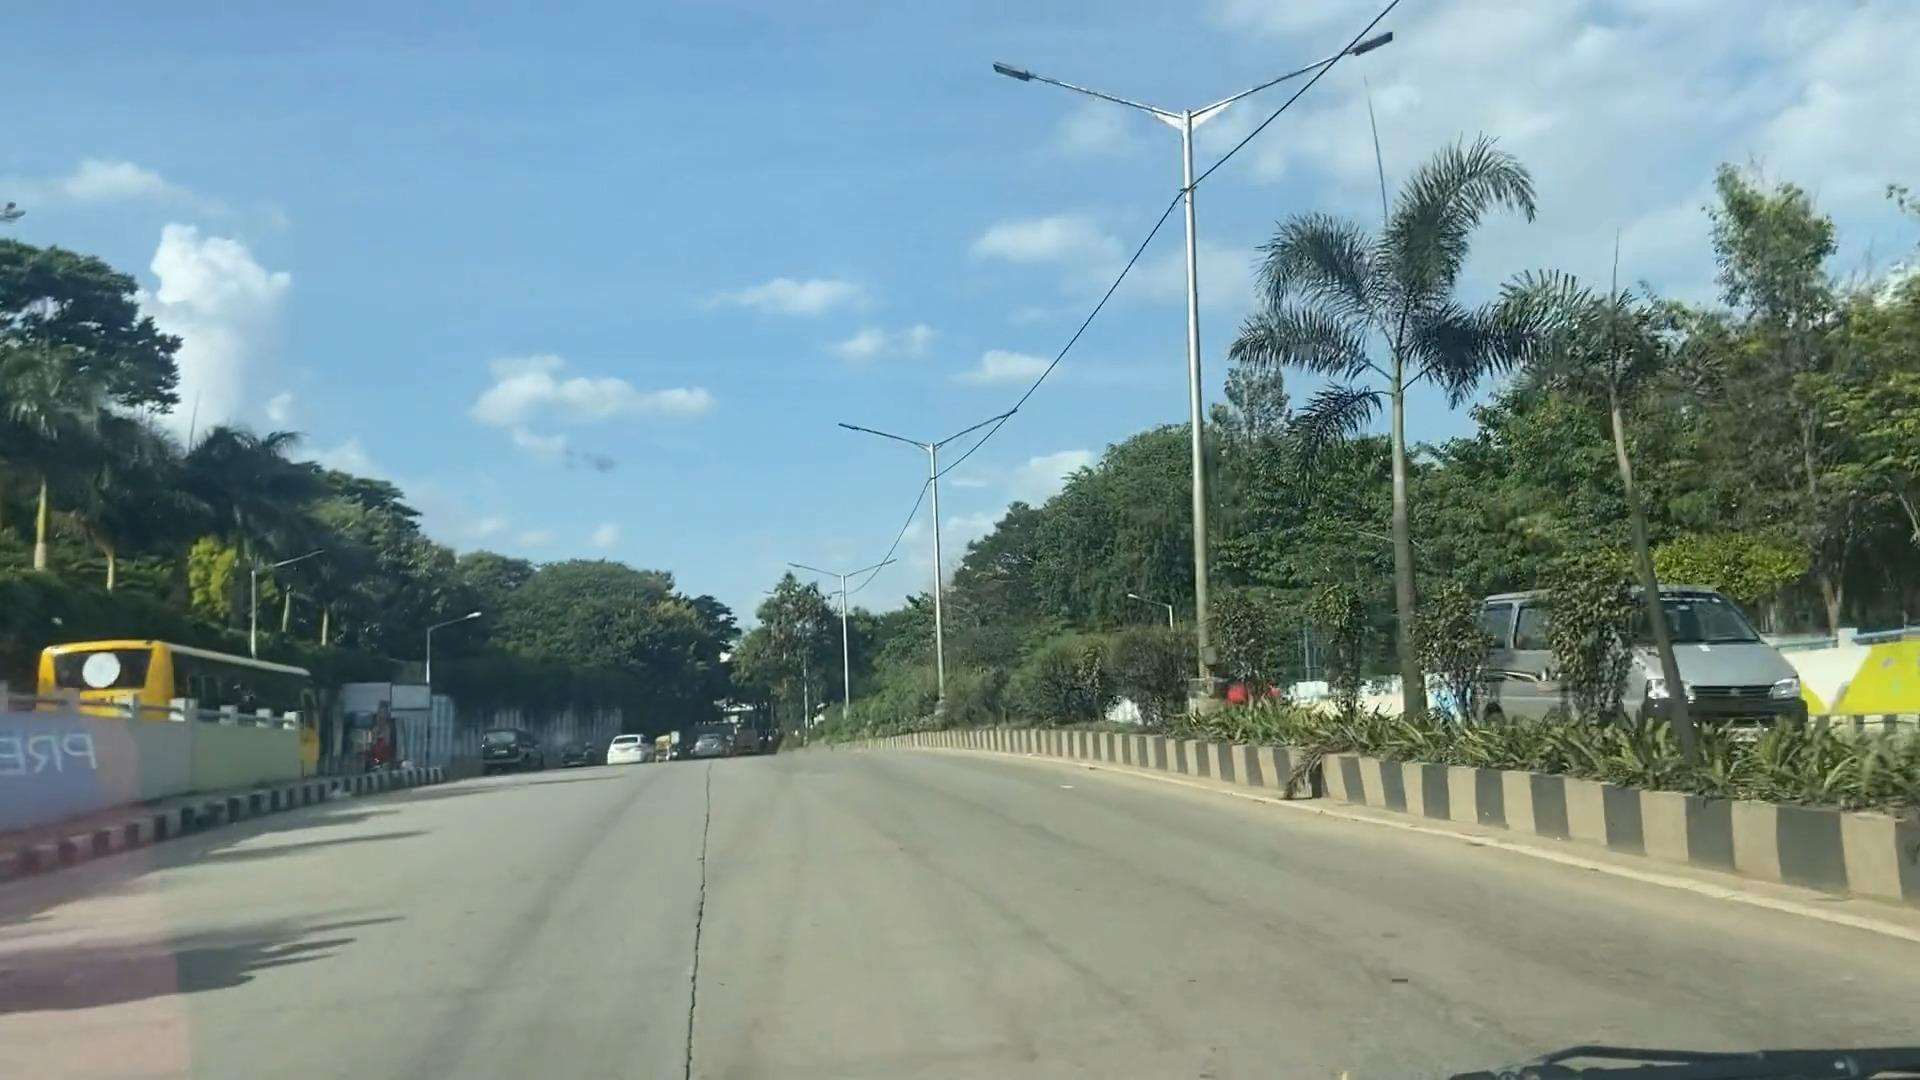RoadDamages: (674, 756, 729, 1080)
